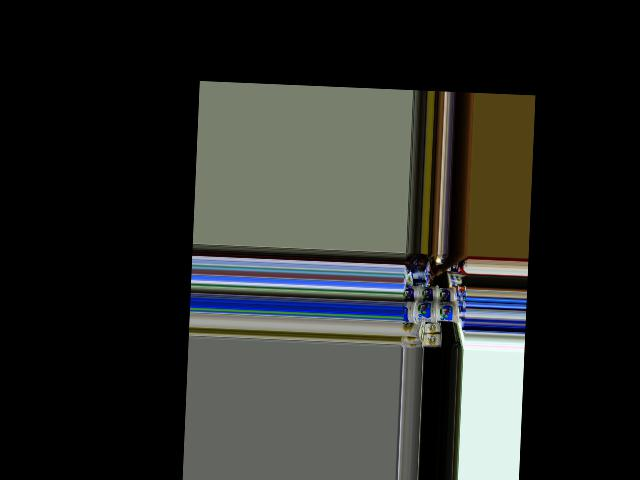cotage: (417, 286, 438, 303)
